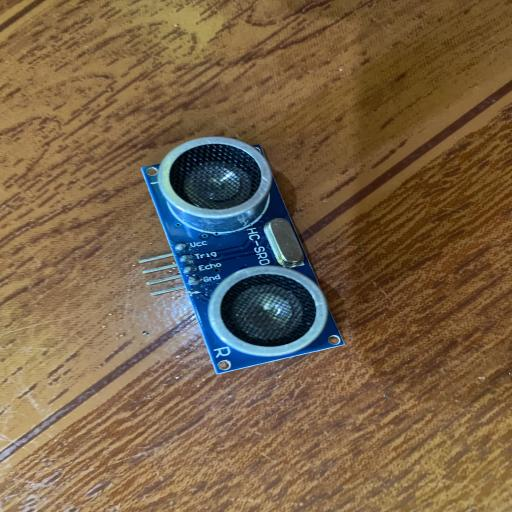Ultrasonic Sensor: (139, 135, 347, 375)
